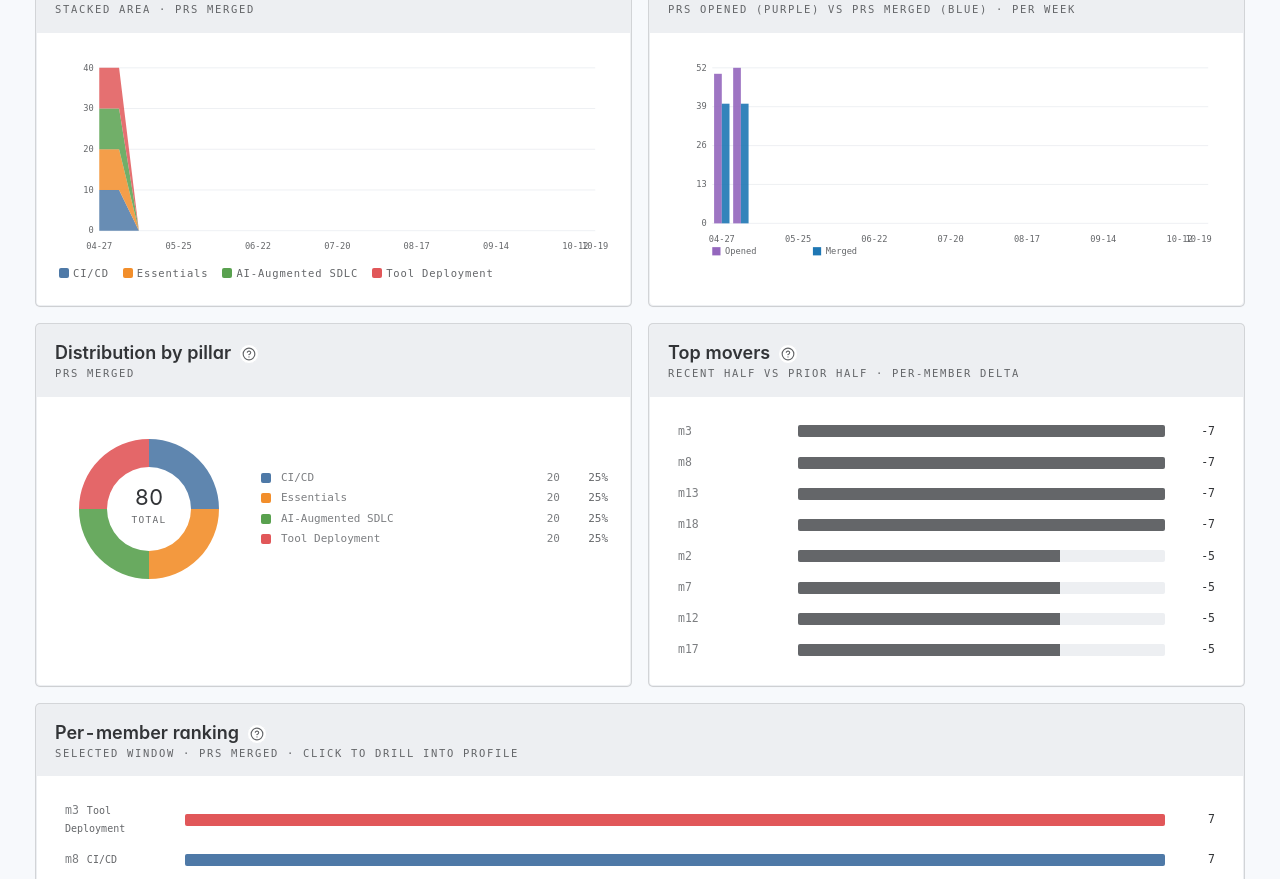
TeamAnalytics dashboard tab › survives clicking a ranking row to drill into a member
(page scrolled)
Click the button with class "ta-bar-row--btn" showing "m3 -7" at (946, 431), box x1=672 y1=419 x2=1221 y2=444
(page scrolled)
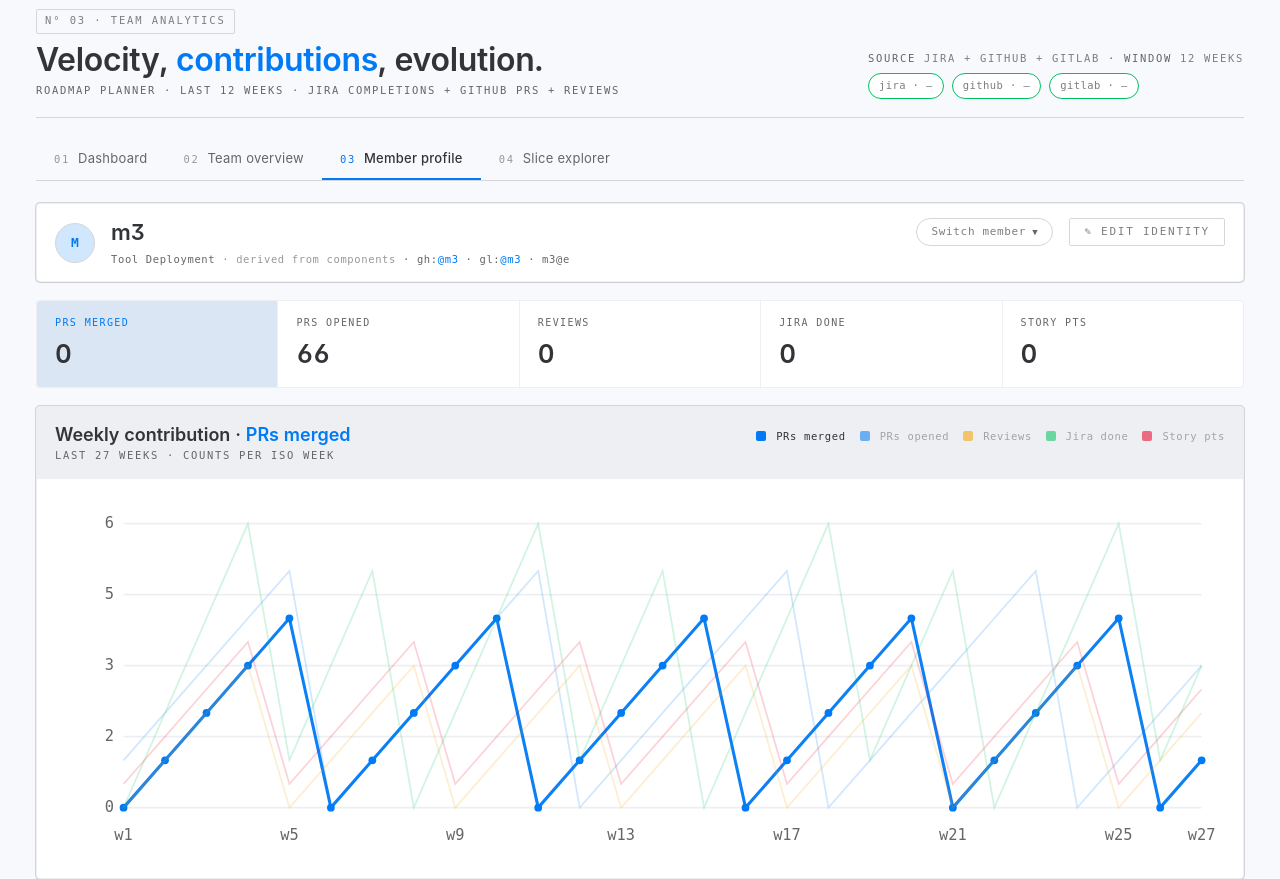
Now the heading "m3" is shown, box x1=111 y1=219 x2=145 y2=245
